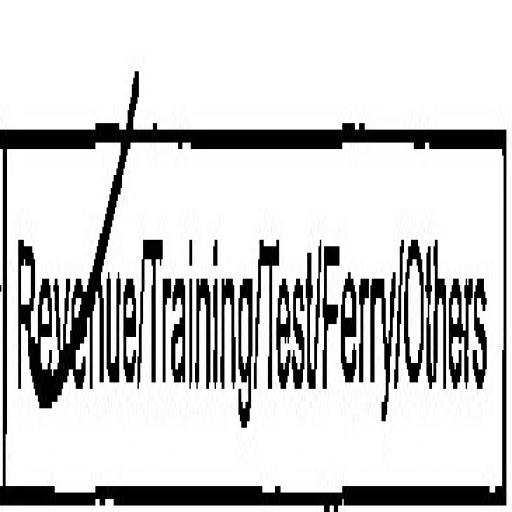check: (0, 16, 141, 512)
